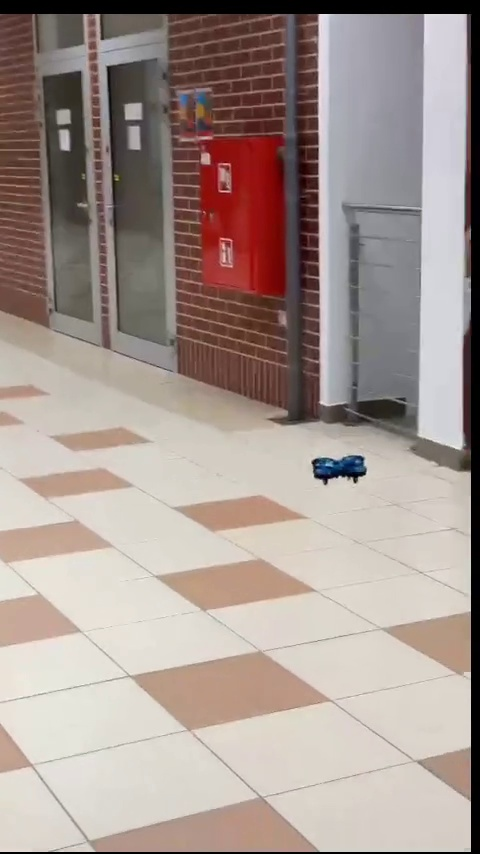drone: (313, 455, 369, 482)
